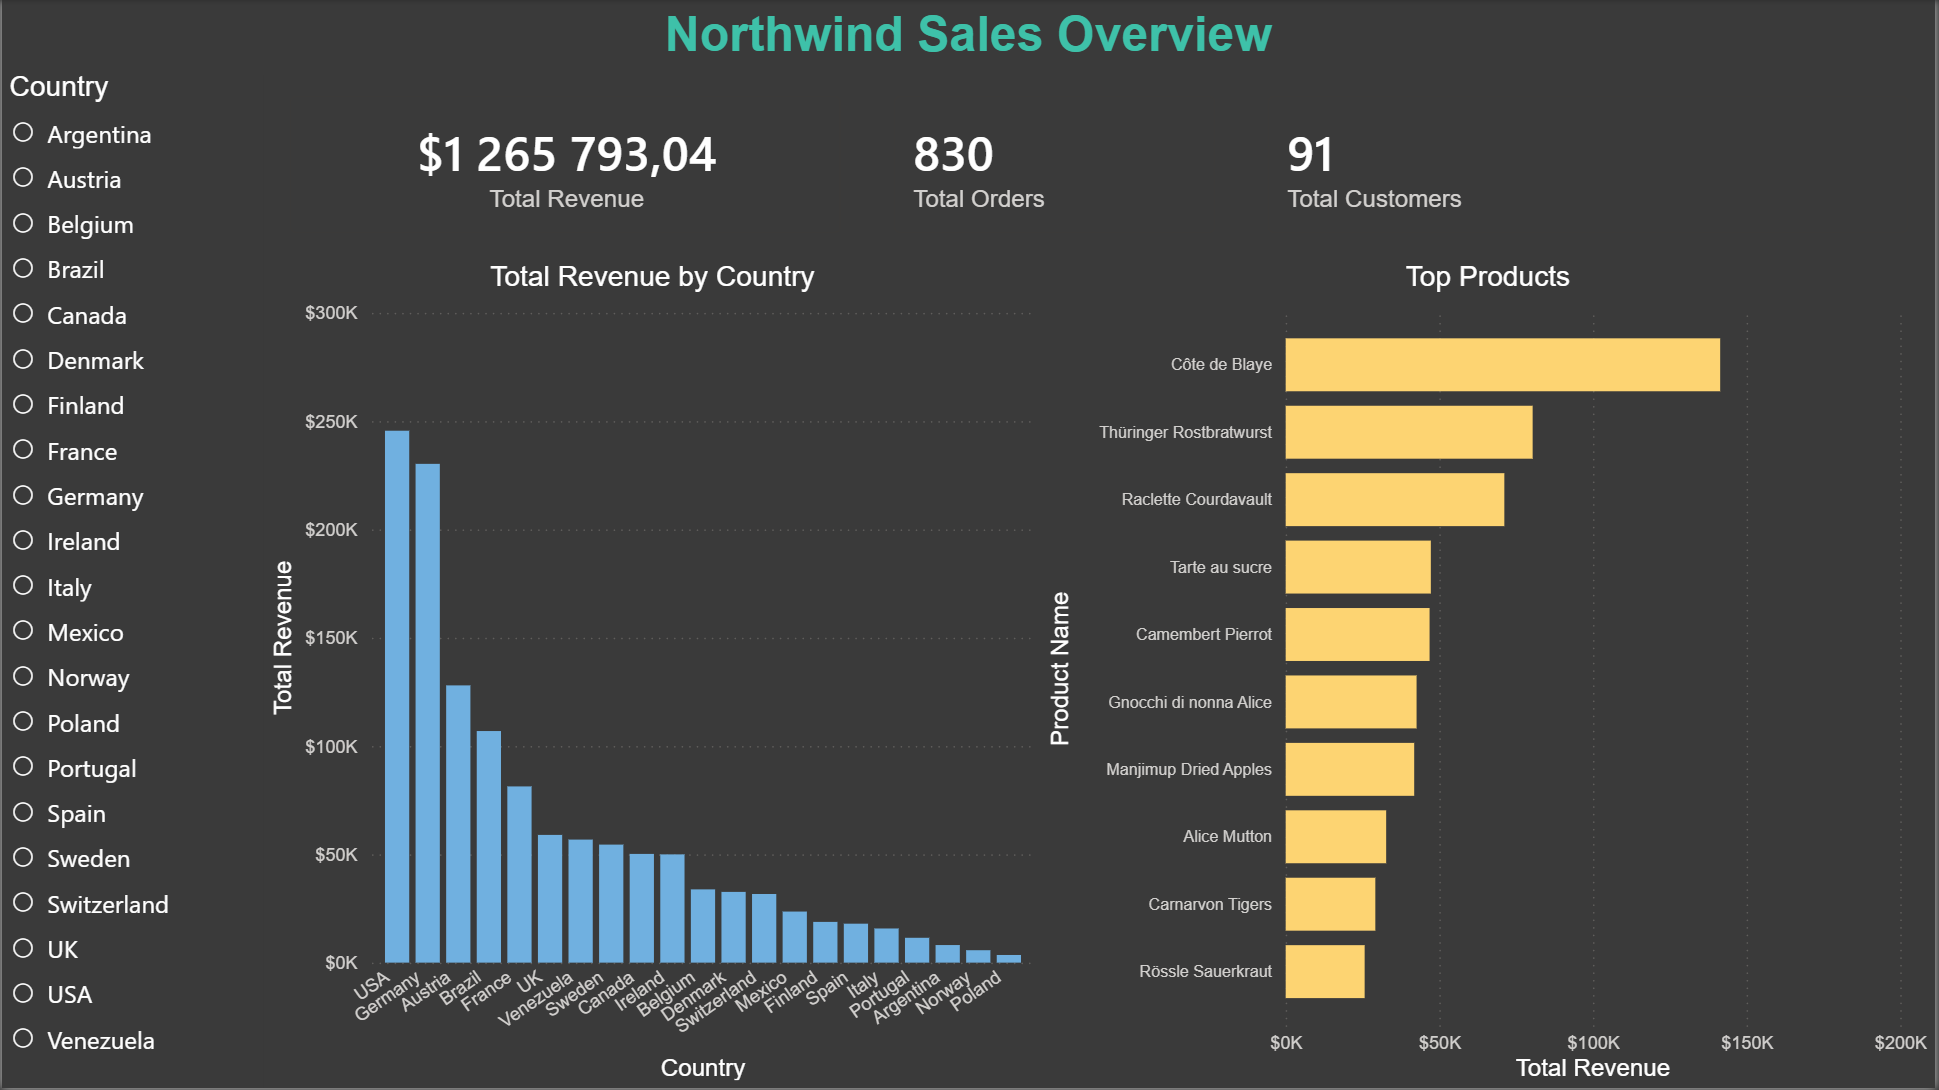

What the dashboard file says about the page in this screenshot:
{"tool":"powerbi","page":{"name":"Revenue Page","canvas":[1280,720],"ordinal":0},"visuals":[{"type":"cardVisual","fields":{"Data":["Order Details.Total Revenue"]},"box":[0,0,333,251.6],"z":0},{"type":"clusteredColumnChart","fields":{"Category":["Orders.ShipCountry"],"Y":["Order Details.Total Revenue"]},"box":[0,251.6,793.2,468.7],"z":1}]}

Visuals, with their boxes in screenshot pixels (x1, y1, x2, y2), scaled from the page's 1280x720 canvas onto the 1939x1090 screenshot:
cardVisual - Order Details.Total Revenue: pyautogui.locateOnScreen(0, 0, 504, 381)
clusteredColumnChart - Orders.ShipCountry x Order Details.Total Revenue: pyautogui.locateOnScreen(0, 381, 1202, 1089)
